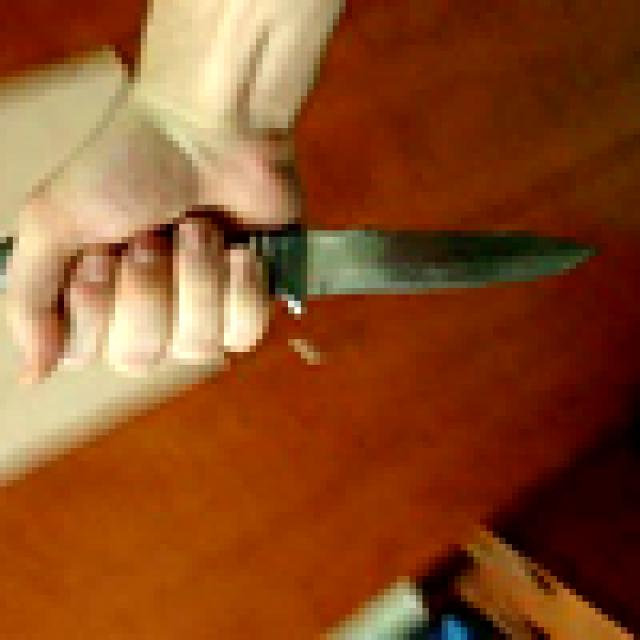Knife: (6, 205, 608, 358)
